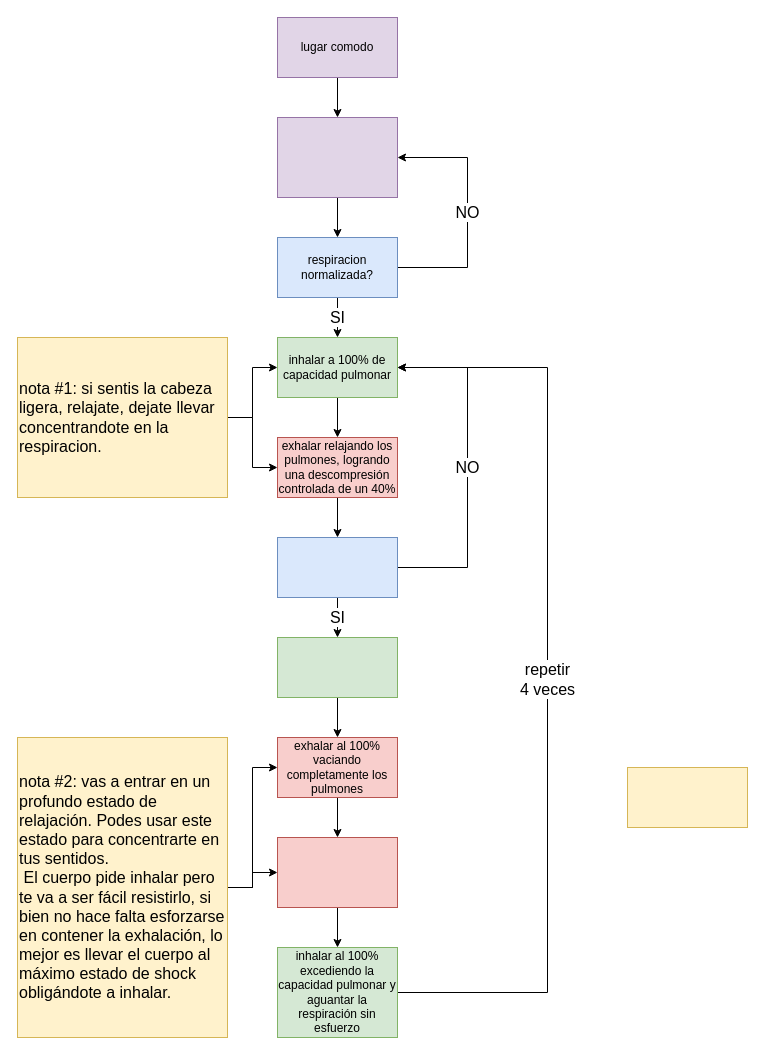
This 765x1055 diagram has some shape labels left out. The centre of each missing label's shape, as x and y in pixels:
inhalar 100%: [337,667]
inhalar y exhalar en profundidad en intervalos comodos: [337,157]
parar completamente la respiración, manteniendo los pulmones vacíos sin esfuerzo: [337,872]
repetir 30 veces, ciclo completado?: [337,567]
